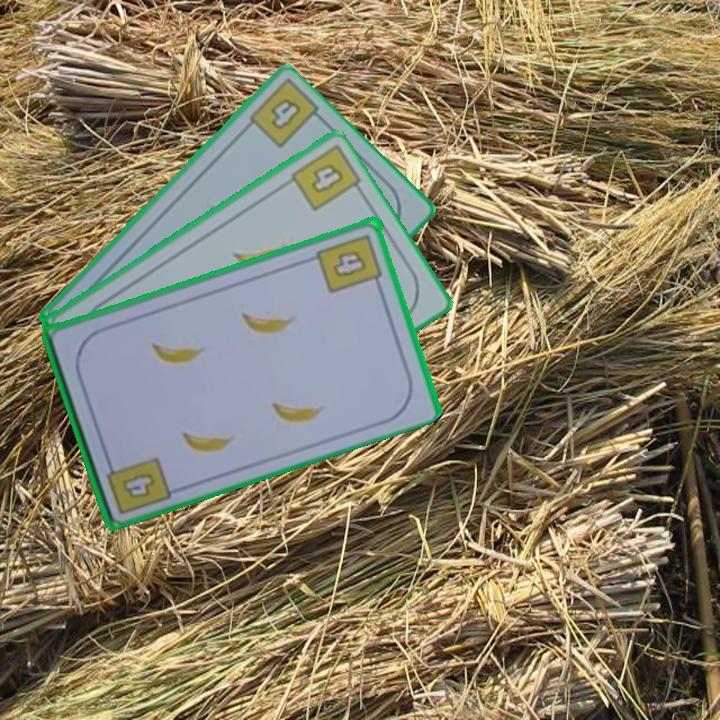4b: (314, 230, 386, 296), (266, 93, 305, 133), (307, 159, 347, 197), (118, 468, 159, 501)
